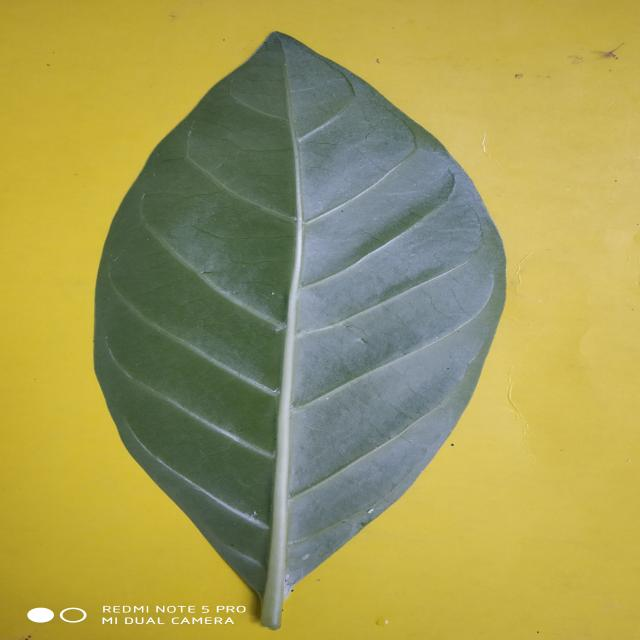nooni: (96, 32, 504, 629)
